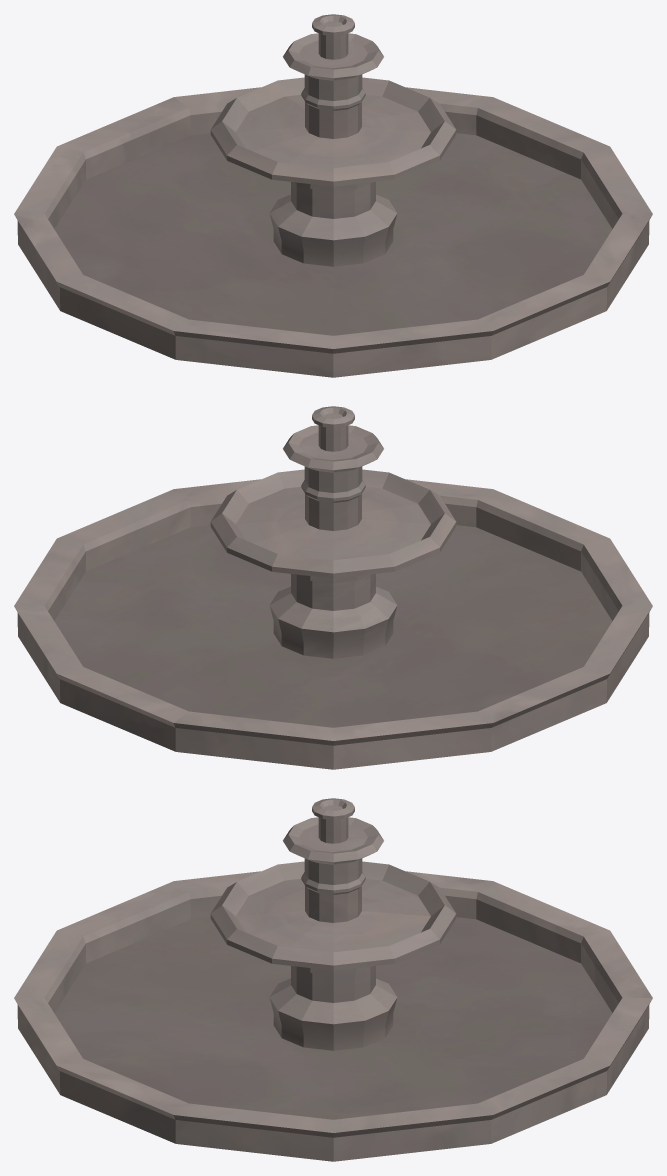
Rendered from 3dmodel_fountain_v1_sc.fbx.
3 views of the same model, one above another, from view 1: azimuth 30°, elevation 25°; view 2: azimuth 150°, elevation 25°; view 3: azimuth 270°, elevation 25° (orthographic).
Visible parts, largest first — view 1: fountain; view 2: fountain; view 3: fountain.
Boxes of the visible parts, left/top/right/bottom form: fountain: left=14, top=14, right=652, bottom=377; fountain: left=14, top=406, right=652, bottom=769; fountain: left=14, top=798, right=652, bottom=1161.
Size of the model in its own units: 2.75 by 1.09 by 2.75.
